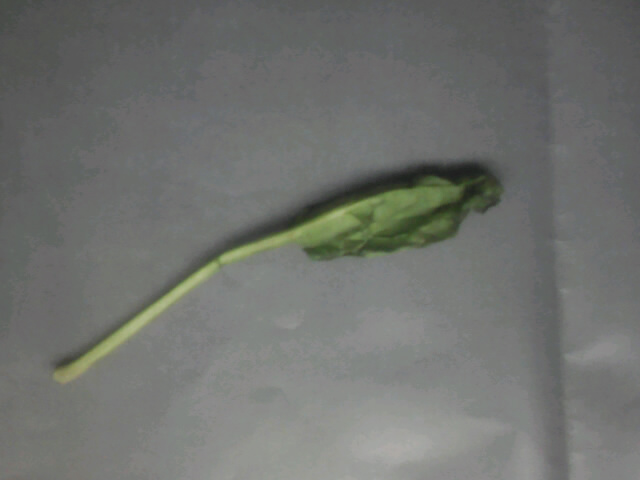yellow: (206, 148, 511, 289)
